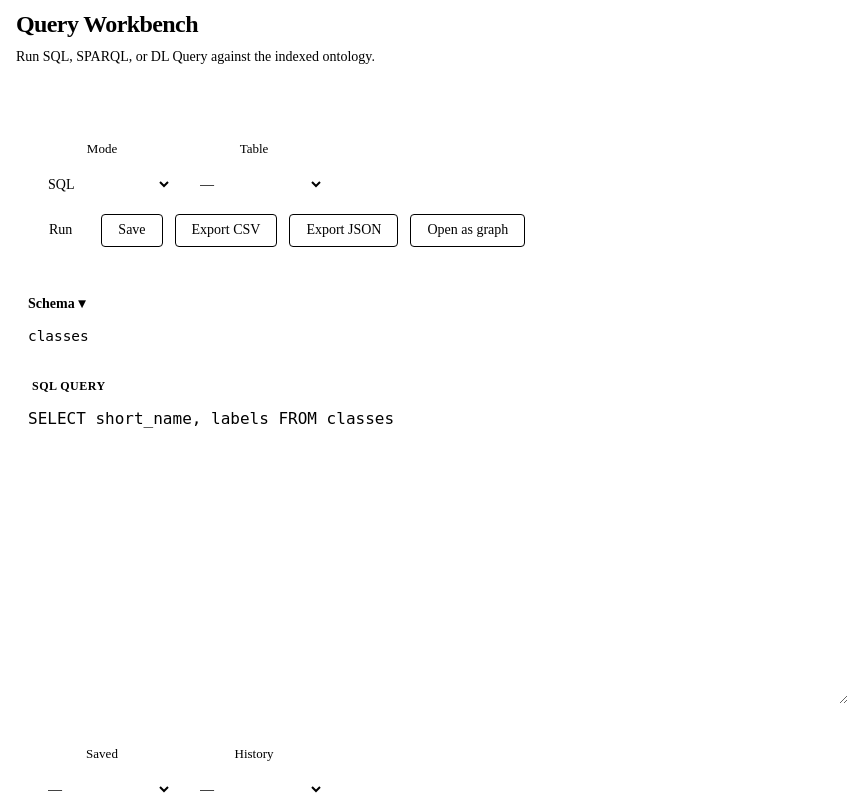
Test: QueryWorkbenchPanel › sets query text when SQL table is selected
Select "classes" in the dropdown labelled "Table": (254, 185) x1=184 y1=167 x2=324 y2=202
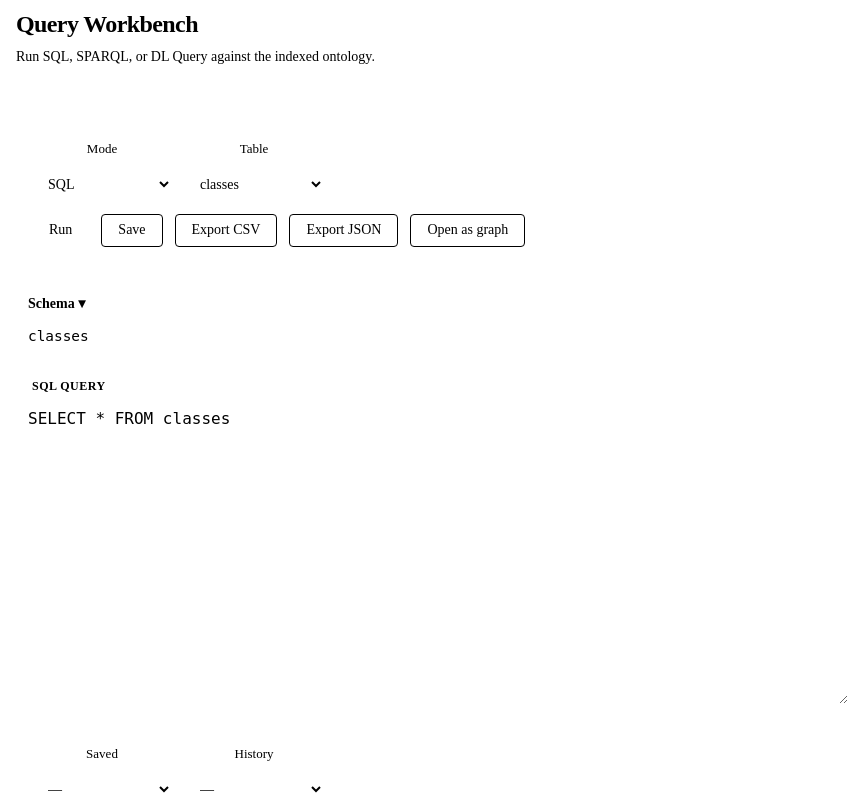
Expected: the text box holds "SELECT * FROM classes", x1=16 y1=398 x2=848 y2=704
